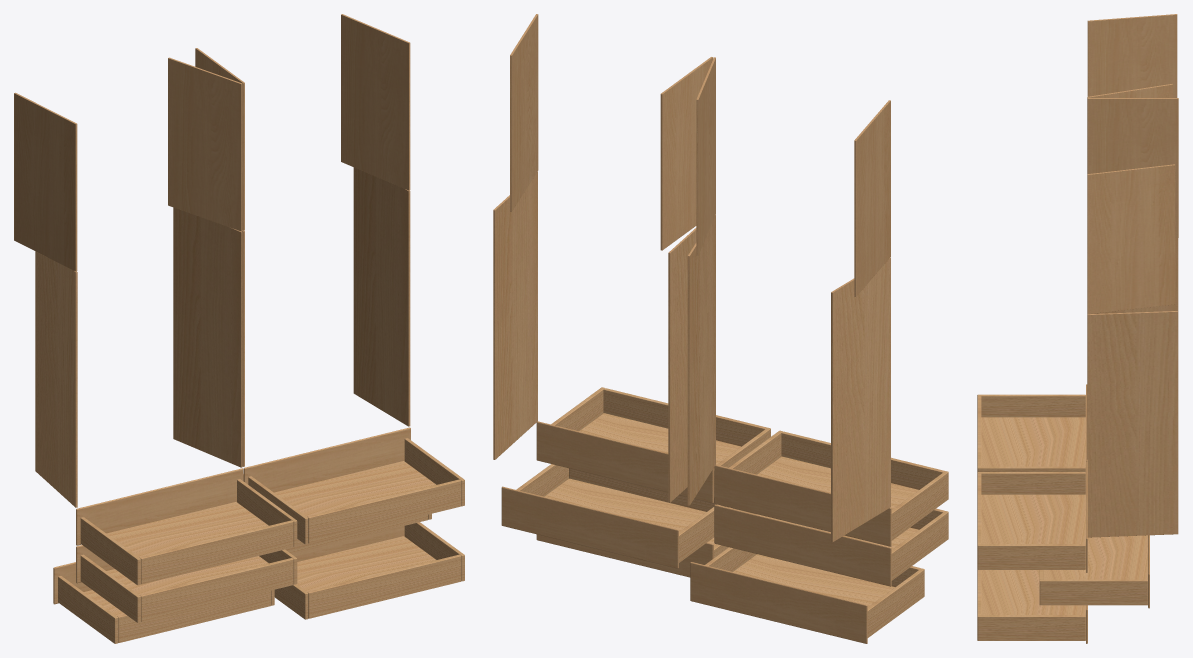
Rendered from lockerTypeTwoViewThree.gltf.
3 views of the same model, side by side, from view 1: azimuth 30°, elevation 25°; view 2: azimuth 150°, elevation 25°; view 3: azimuth 270°, elevation 25° (orthographic). The views are drawn at different scales.
Visible parts, largest first — view 1: lockerTypeTwoViewThree; view 2: lockerTypeTwoViewThree; view 3: lockerTypeTwoViewThree.
Part boxes in pixels (x1,y1,x2,y2): lockerTypeTwoViewThree: (14, 14, 464, 643); lockerTypeTwoViewThree: (493, 14, 948, 643); lockerTypeTwoViewThree: (977, 14, 1178, 643).
Bounding box in the file's own units: 1.98 × 2.69 × 1.05.
Materials: 1 (1 with a texture image).
